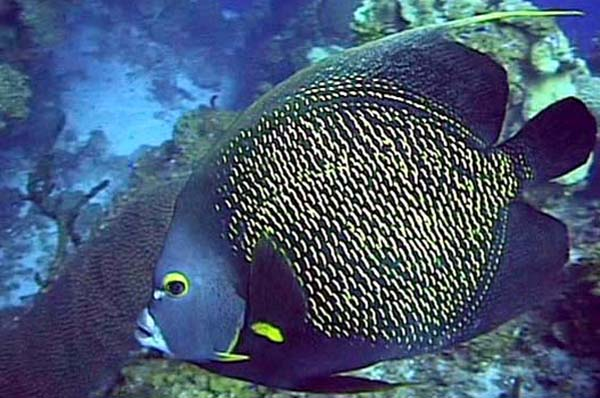Pomacanthus_paru: (125, 24, 580, 389)
